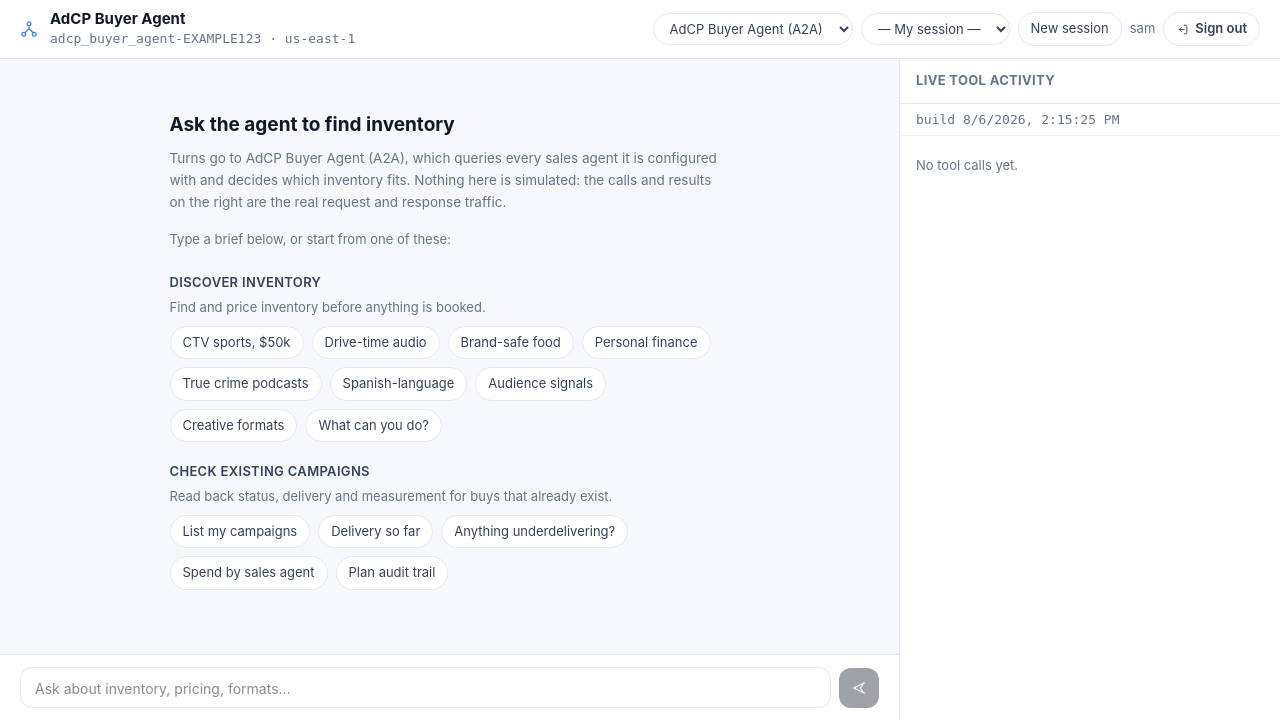
Scenario: chat empty state: example briefs and New session › brings the briefs back after New session, having cleared the transcript
Click the button "CTV sports, $50k" at (236, 342), box top-left (170, 326), bottom-right (304, 359)
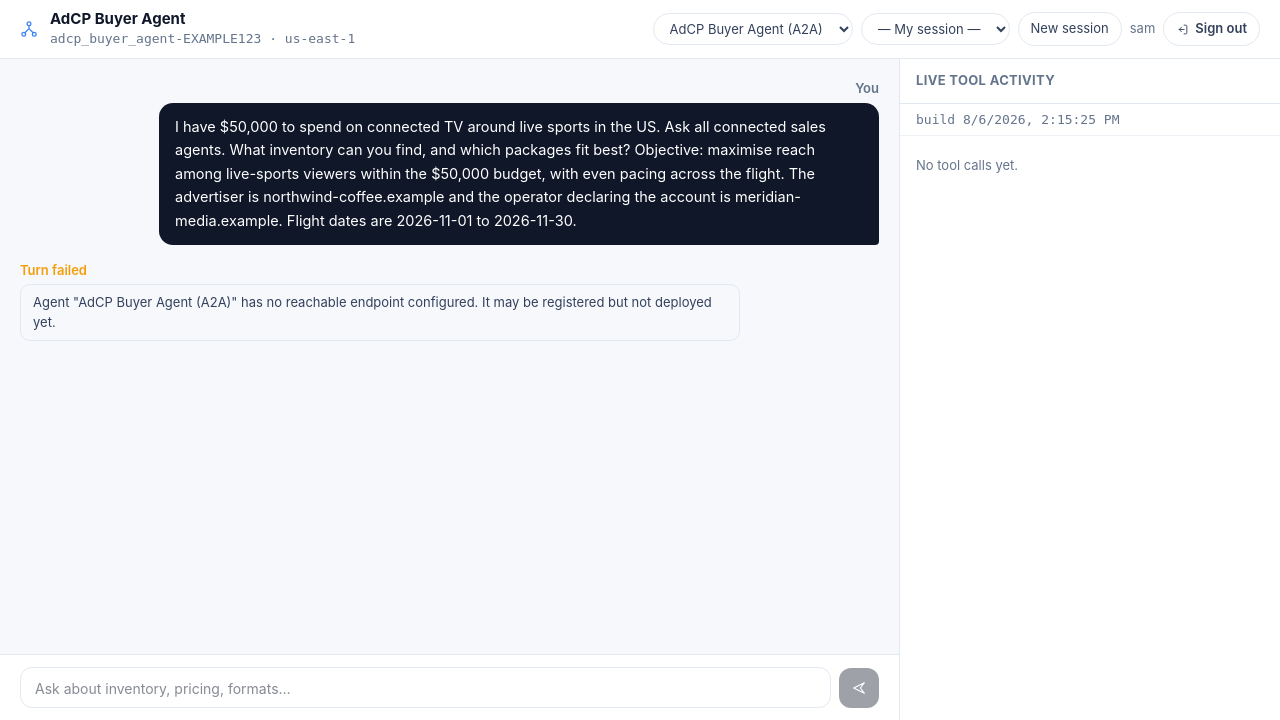
Check: the element with test id "test-briefs" is gone
Click the button with test id "chat-new-session-button" at (1070, 29), box top-left (1018, 12), bottom-right (1122, 46)
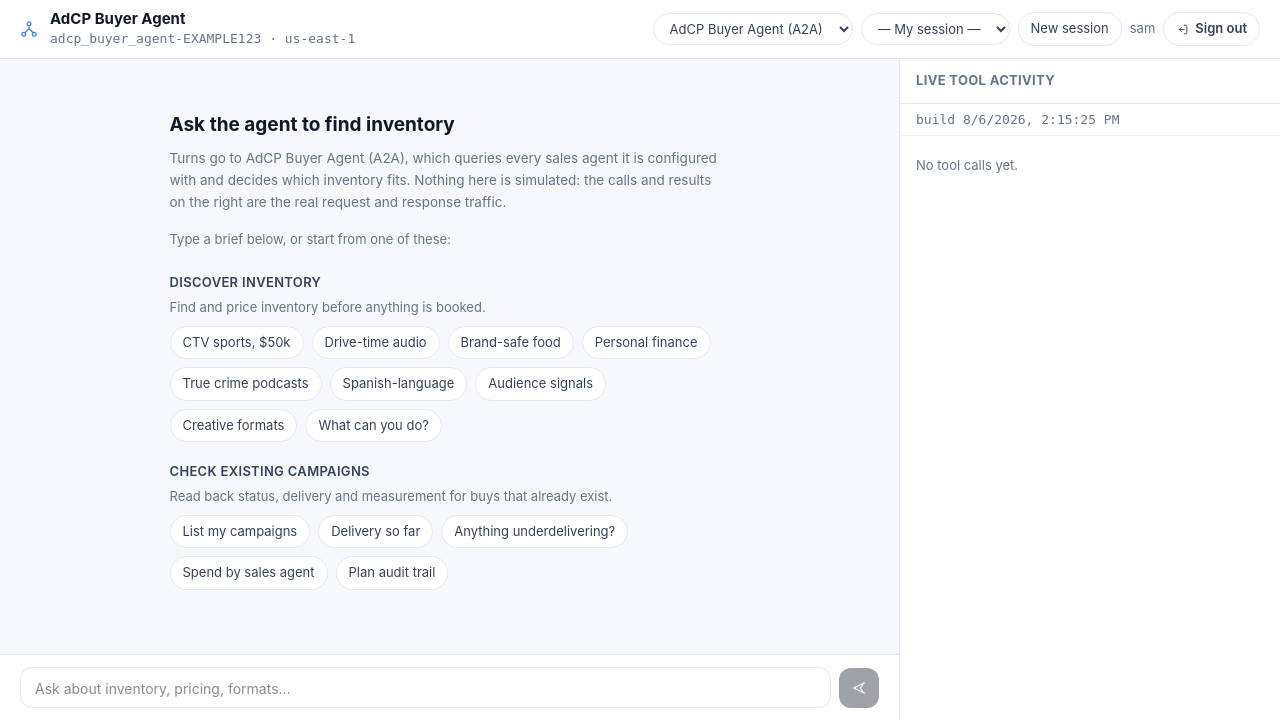
Check: the element with test id "test-briefs" is shown, box top-left (170, 273), bottom-right (730, 590)
Check: the heading "Discover inventory" is shown, box top-left (170, 274), bottom-right (321, 290)
